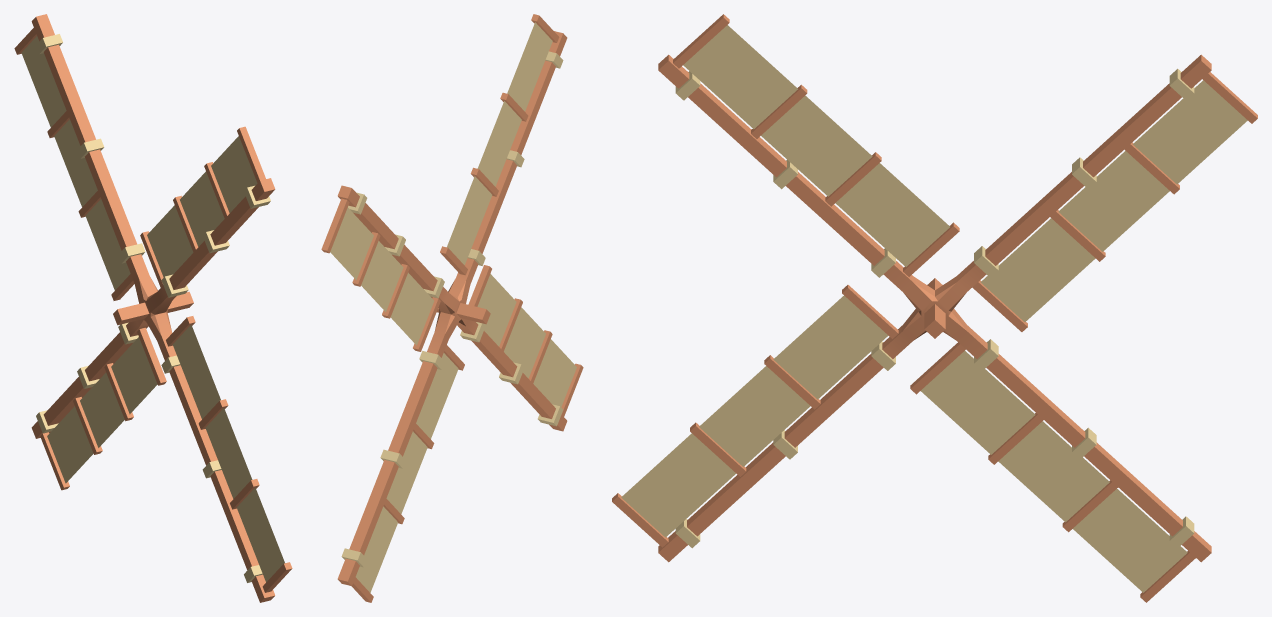
The model's file is windmill.glb.
3 views of the same model, side by side, from view 1: azimuth 30°, elevation 25°; view 2: azimuth 150°, elevation 25°; view 3: azimuth 270°, elevation 25° (orthographic). The views are drawn at different scales.
Parts seen in each view (by area): view 1: windmill; view 2: windmill; view 3: windmill.
Boxes of the visible parts, left/top/right/bottom form: windmill: left=14, top=14, right=292, bottom=602; windmill: left=321, top=14, right=583, bottom=602; windmill: left=612, top=14, right=1257, bottom=602.
Size of the model in its own units: 0.471 by 3.07 by 3.07.
